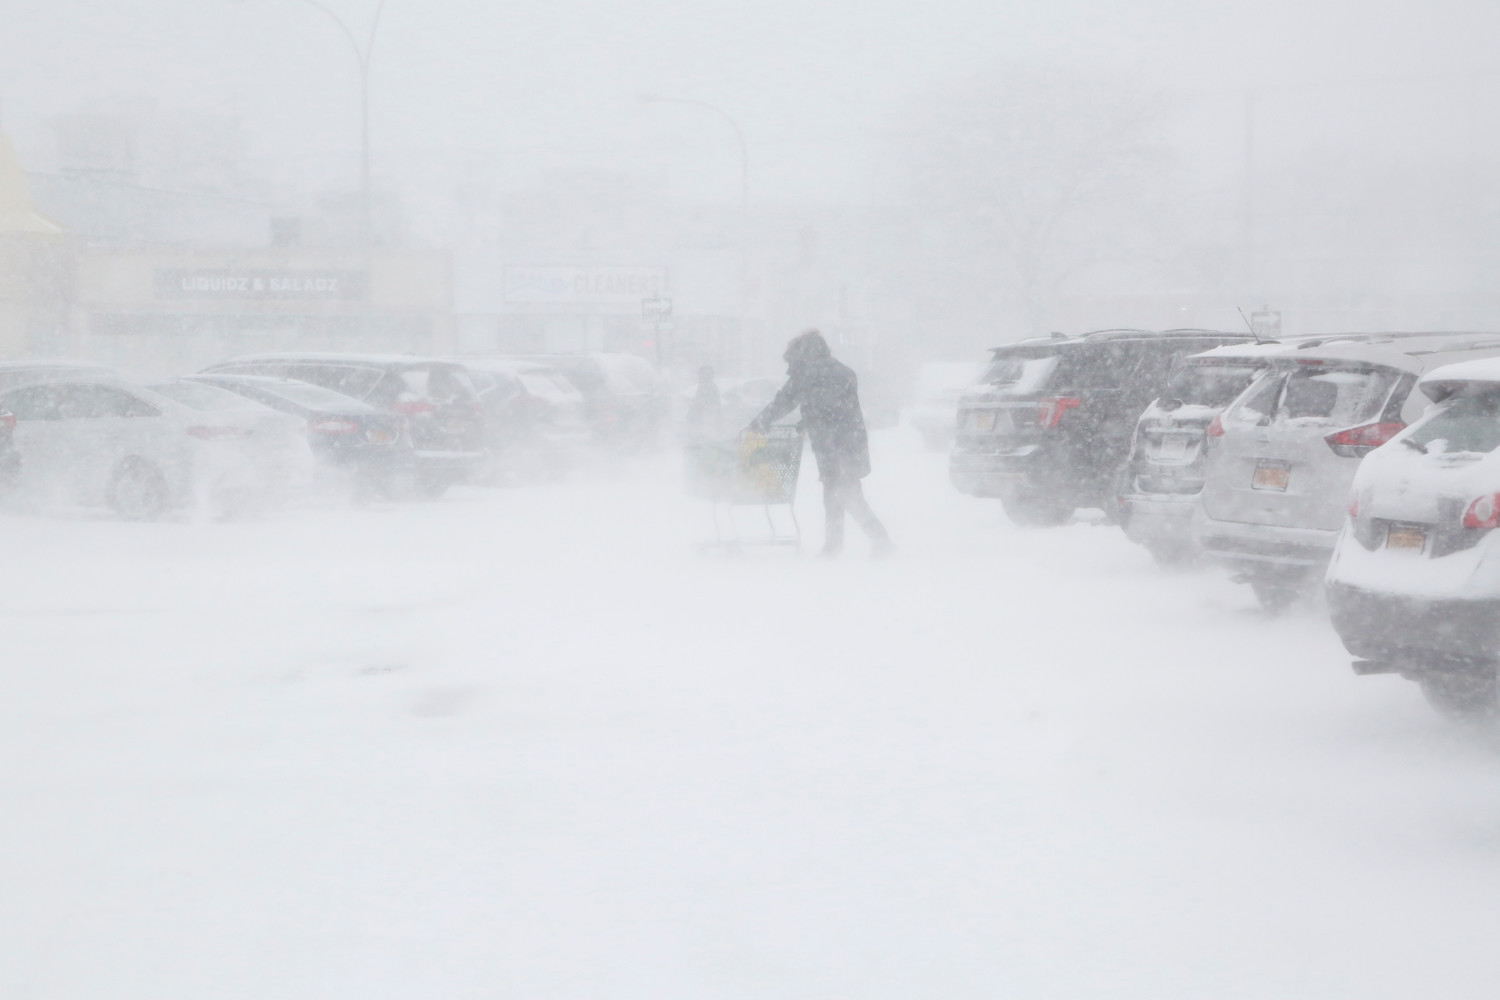car: (950, 332, 1135, 528)
person: (758, 329, 898, 561)
